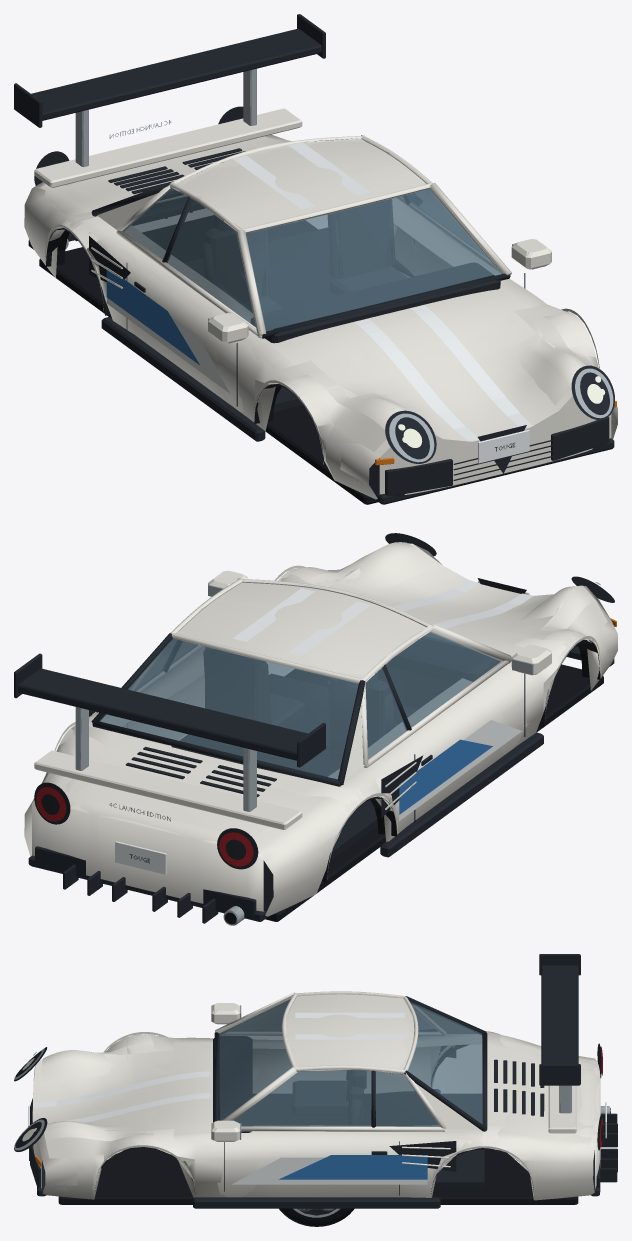
The model's file is alfa4c.glb.
3 views of the same model, one above another, from view 1: azimuth 30°, elevation 25°; view 2: azimuth 150°, elevation 25°; view 3: azimuth 270°, elevation 25° (orthographic). The views are drawn at different scales.
Visible parts, largest first — view 1: LOD0_body, LOD0_cabin, LOD0_glass, LOD1_glass, LOD1_body, LOD0_hood, LOD1_hood, LOD1_spoiler_gt, LOD1_cabin, LOD0_spoiler_gt, LOD0_vinyl_apex, LOD1_spoiler_stock (+3 smaller); view 2: LOD0_body, LOD0_cabin, LOD1_body, LOD0_glass, LOD1_glass, LOD1_spoiler_gt, LOD1_hood, LOD0_hood, LOD0_spoiler_gt, LOD0_vinyl_apex, LOD1_spoiler_stock, LOD1_cabin (+3 smaller); view 3: LOD0_body, LOD1_body, LOD0_cabin, LOD0_glass, LOD1_glass, LOD0_hood, LOD1_hood, LOD0_vinyl_apex, LOD1_spoiler_gt, LOD1_cabin, LOD0_spoiler_gt, LOD0_vinyl_twin (+5 smaller).
Boxes of the visible parts, x1,y1,x2,y2 form: LOD0_body: (24, 106, 616, 504); LOD0_cabin: (91, 135, 511, 411); LOD0_glass: (123, 188, 501, 330); LOD1_glass: (124, 188, 501, 331); LOD1_body: (24, 107, 617, 504); LOD0_hood: (268, 286, 585, 433); LOD1_hood: (296, 297, 575, 441); LOD1_spoiler_gt: (14, 14, 325, 166); LOD1_cabin: (159, 135, 511, 411); LOD0_spoiler_gt: (14, 14, 325, 166); LOD0_vinyl_apex: (106, 235, 455, 393); LOD1_spoiler_stock: (34, 108, 302, 187); LOD0_body: (24, 533, 616, 925); LOD0_cabin: (91, 577, 511, 859); LOD1_body: (24, 533, 617, 925); LOD0_glass: (100, 631, 500, 778); LOD1_glass: (99, 632, 501, 778); LOD1_spoiler_gt: (16, 653, 317, 811); LOD1_hood: (327, 542, 558, 645); LOD0_hood: (307, 542, 595, 656); LOD0_spoiler_gt: (14, 654, 325, 811); LOD0_vinyl_apex: (399, 720, 521, 820); LOD1_spoiler_stock: (34, 750, 301, 829); LOD1_cabin: (95, 578, 510, 857); LOD0_body: (14, 1003, 617, 1208); LOD1_body: (15, 1003, 610, 1208); LOD0_cabin: (213, 991, 487, 1188); LOD0_glass: (219, 999, 482, 1126); LOD1_glass: (219, 999, 482, 1126); LOD0_hood: (40, 1042, 212, 1141); LOD1_hood: (32, 1048, 198, 1131); LOD0_vinyl_apex: (232, 1155, 427, 1184); LOD1_spoiler_gt: (539, 955, 580, 1112); LOD1_cabin: (214, 992, 486, 1188); LOD0_spoiler_gt: (539, 954, 580, 1113); LOD0_vinyl_twin: (40, 1012, 404, 1122).
Bounding box in the file's own units: 2.13 × 1.64 × 4.24.
